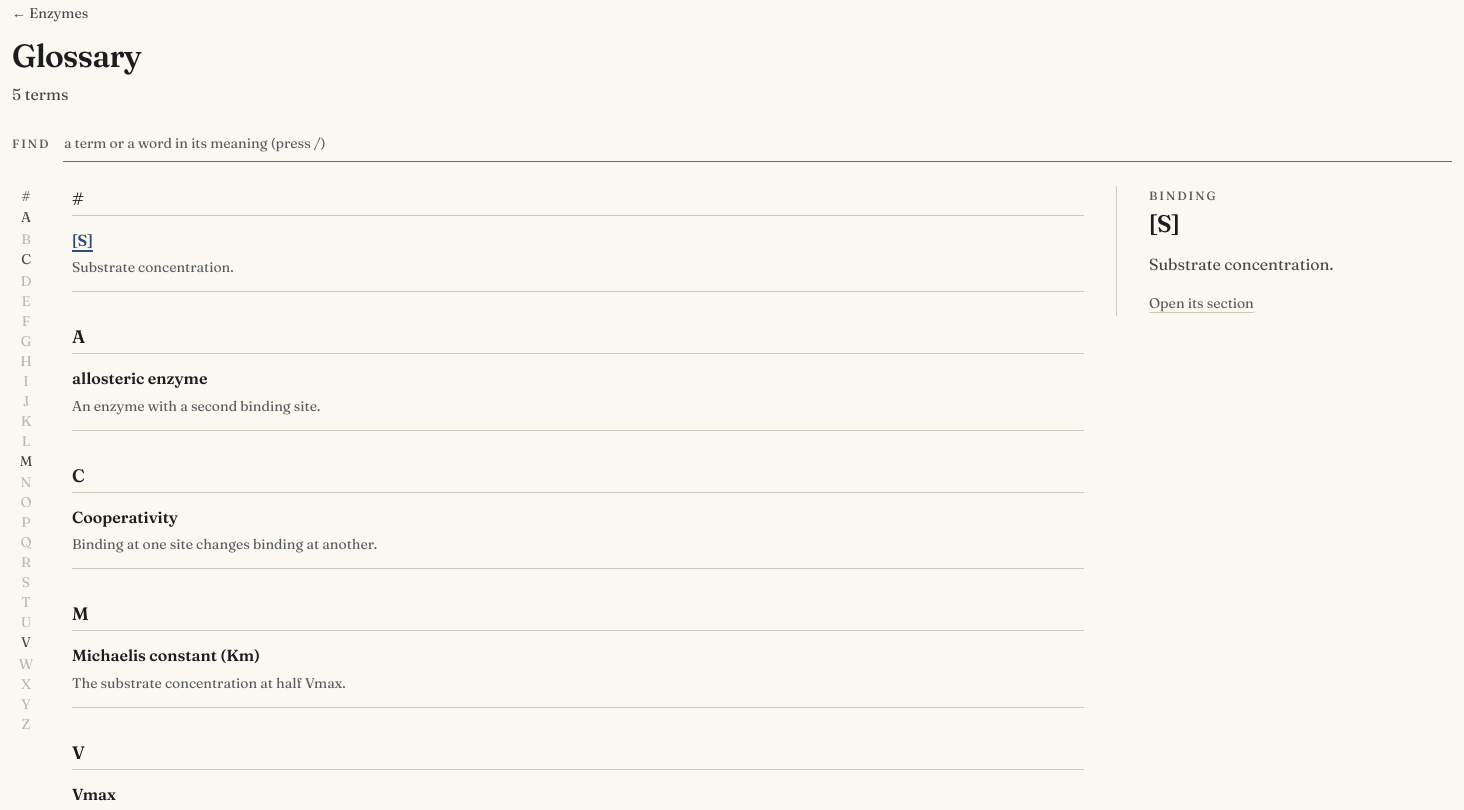
GlossaryRoute on a computer › shows the meaning of the picked term beside the list, and / searches
The width and height of the screenshot is (1464, 810).
Later steps or results of the test are not shown.
Click the button "Vmax".
click(94, 795)  # box [72, 782, 116, 807]
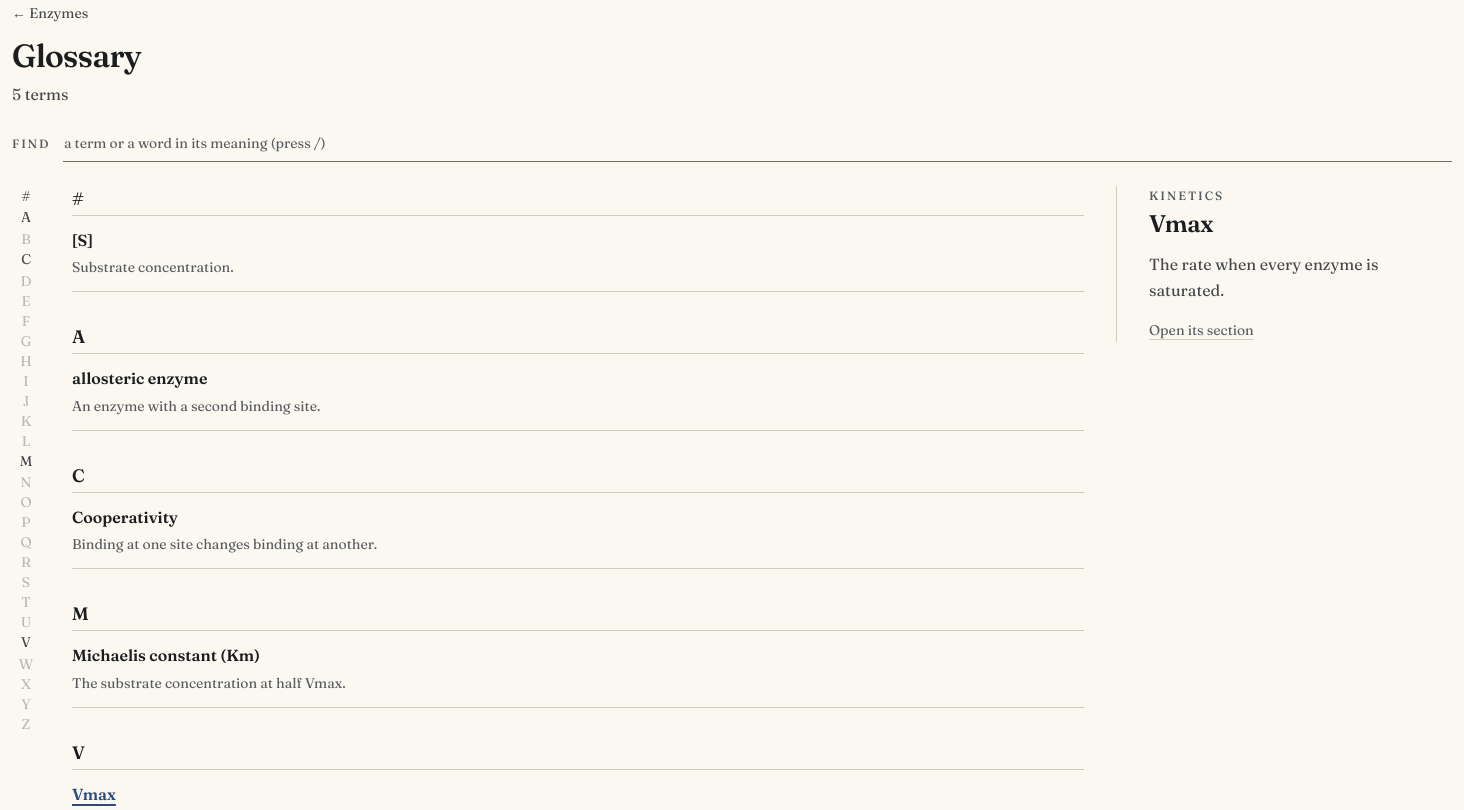
Check: the element named "Meaning" shows "The rate when every enzyme is saturated.", box [1149, 254, 1378, 300]
